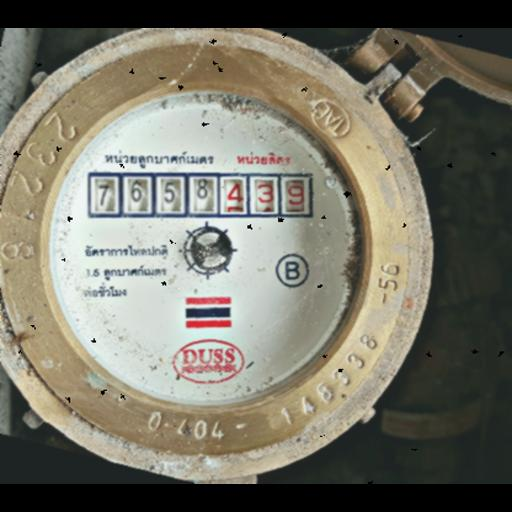3: (255, 179, 274, 213)
4: (225, 180, 244, 214)
5: (162, 180, 181, 212)
6: (128, 180, 149, 212)
7: (96, 181, 115, 212)
8: (195, 180, 213, 212)
9: (285, 181, 305, 211)
border_water_meter_number: (88, 172, 314, 218)
